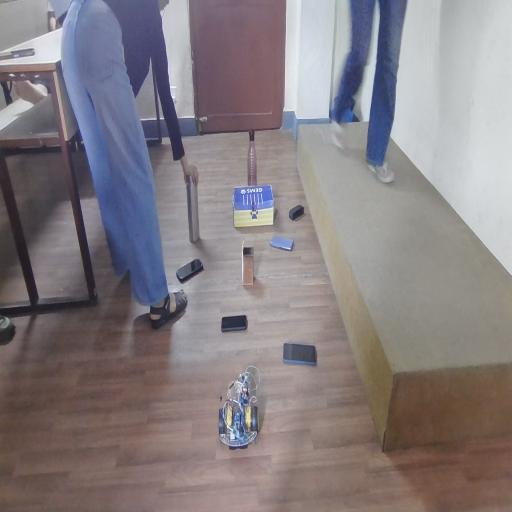Bottle: (240, 121, 262, 181)
car: (204, 323, 293, 467)
